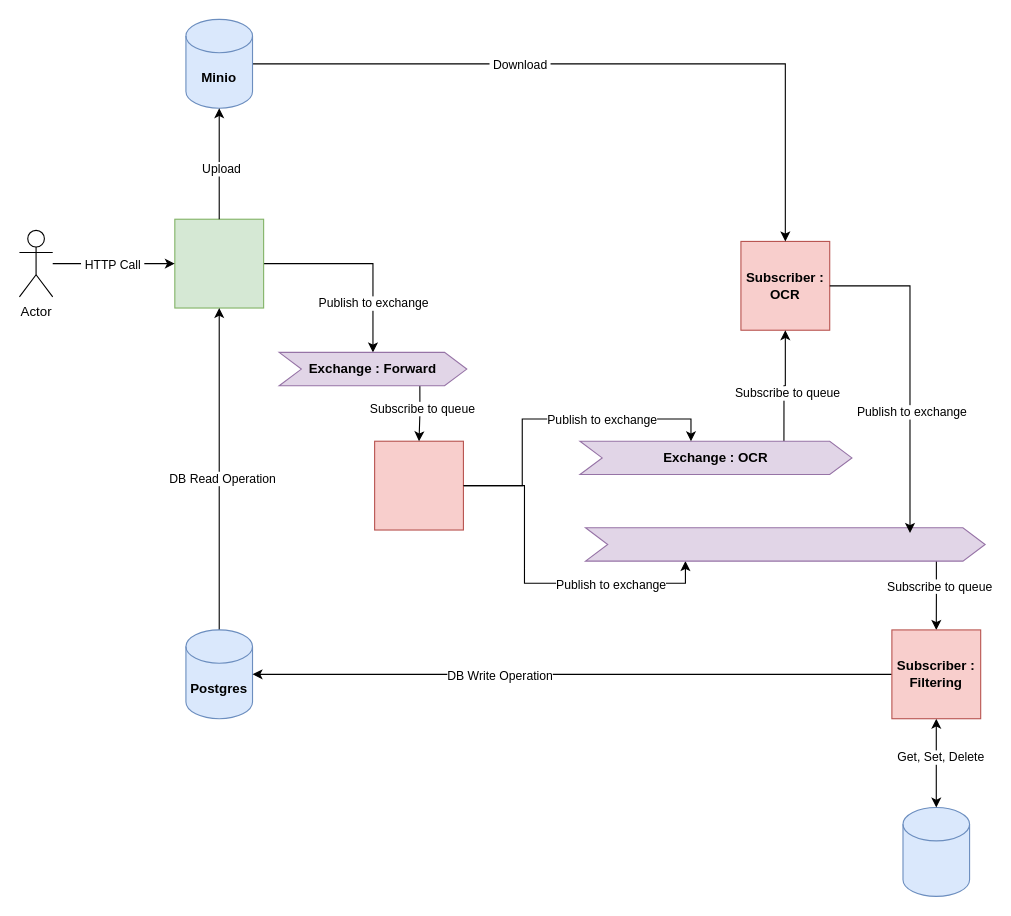
This 1011x916 diagram has some shape labels left out. The shapes that lost their labels are listed below. From the top down, each one's centre as x and y in pixels, then its label:
[219,263]: API
[418,485]: Subscriber : Forward
[784,544]: Exchange : Filtering
[936,851]: Redis
